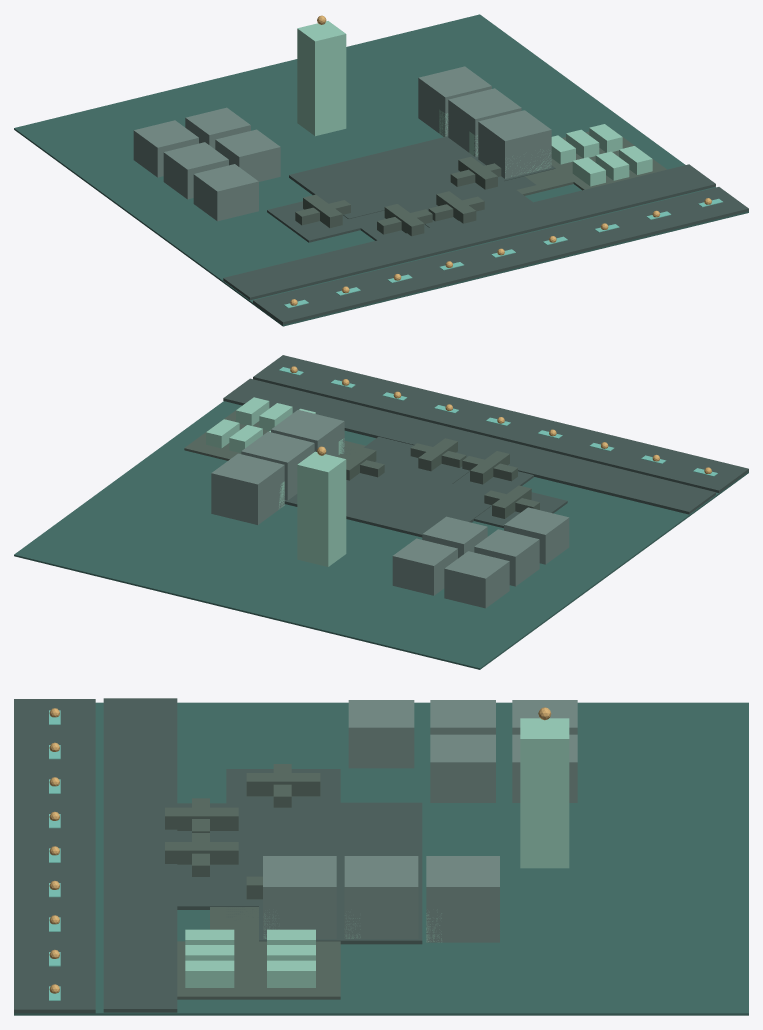
File: stage_21.glb
3 views of the same model, one above another, from view 1: azimuth 30°, elevation 25°; view 2: azimuth 150°, elevation 25°; view 3: azimuth 270°, elevation 25° (orthographic). The views are drawn at different scales.
Parts seen in each view (by area): view 1: geometry_0; view 2: geometry_0; view 3: geometry_0.
Boxes of the visible parts, x1,y1,x2,y2 form: geometry_0: (14,14,748,326); geometry_0: (14,355,748,669); geometry_0: (14,698,748,1015).
Bounding box in the file's own units: 9 × 2.06 × 9.
